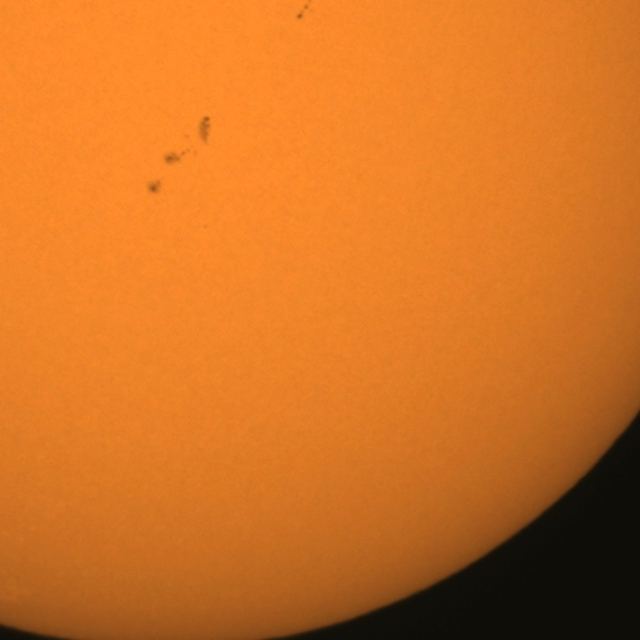sunspot: (163, 141, 193, 166), (197, 115, 213, 143), (145, 178, 164, 196), (295, 2, 311, 21)
